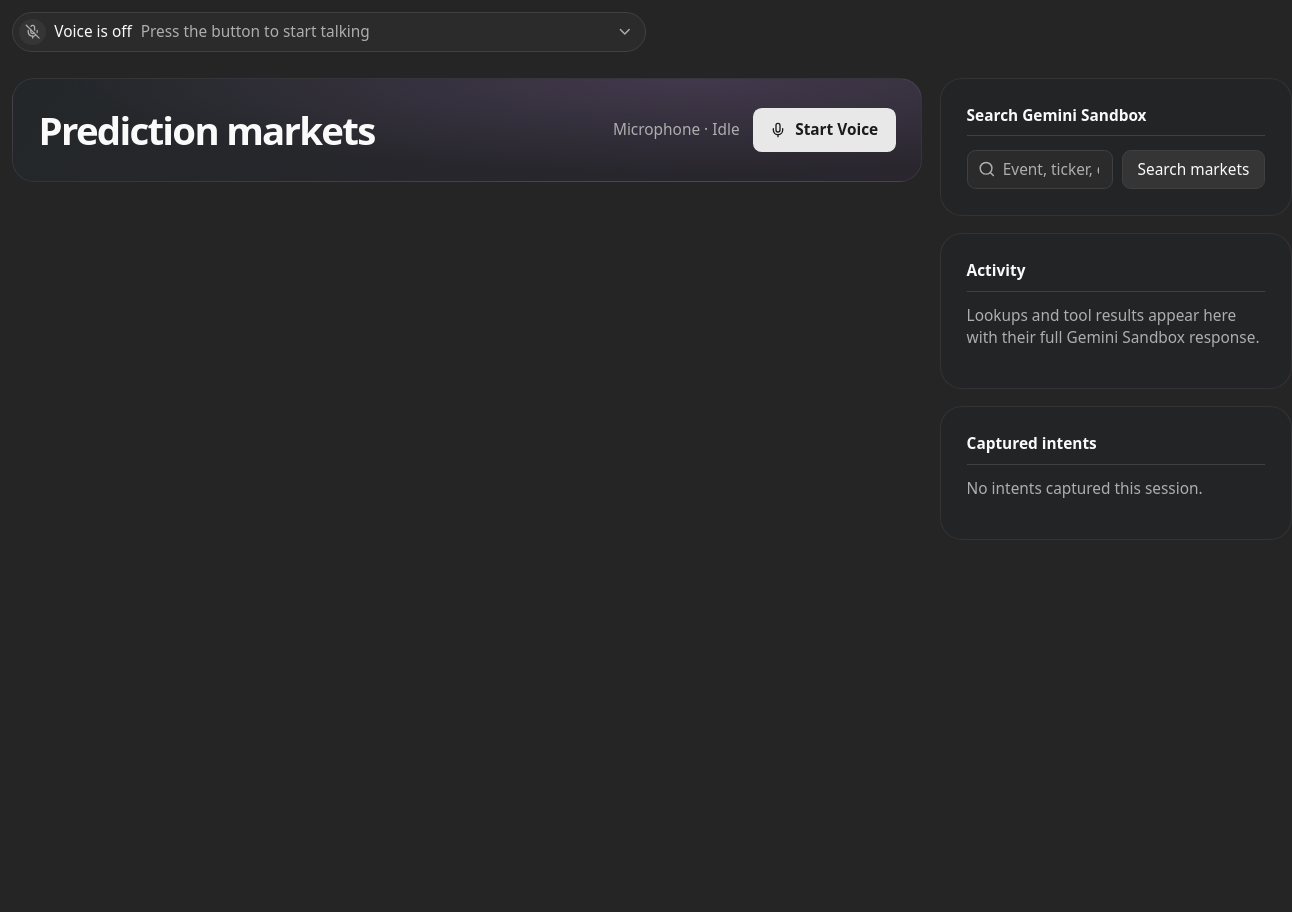
Test: requests one fresh remainder proposal after spoken approval (retry by voice false)
The image size is (1292, 912).
Click the button "Start Voice" at (824, 130), box [753,108,896,152]
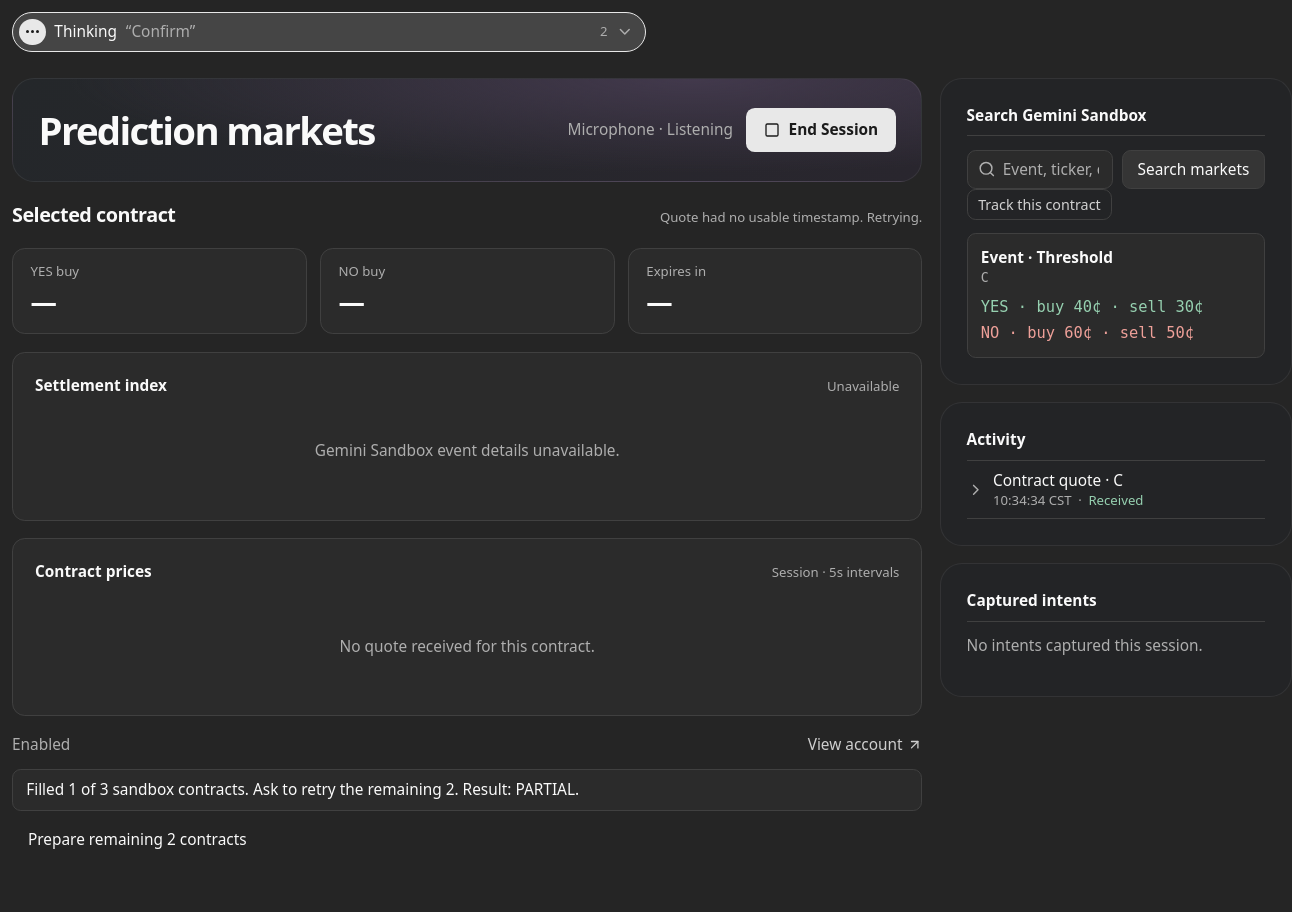
Expected: the text "Microphone · Listening" is shown, [568,119,733,141]
Click the button "Prepare remaining 2 contracts" at (137, 839), box [12,819,263,859]
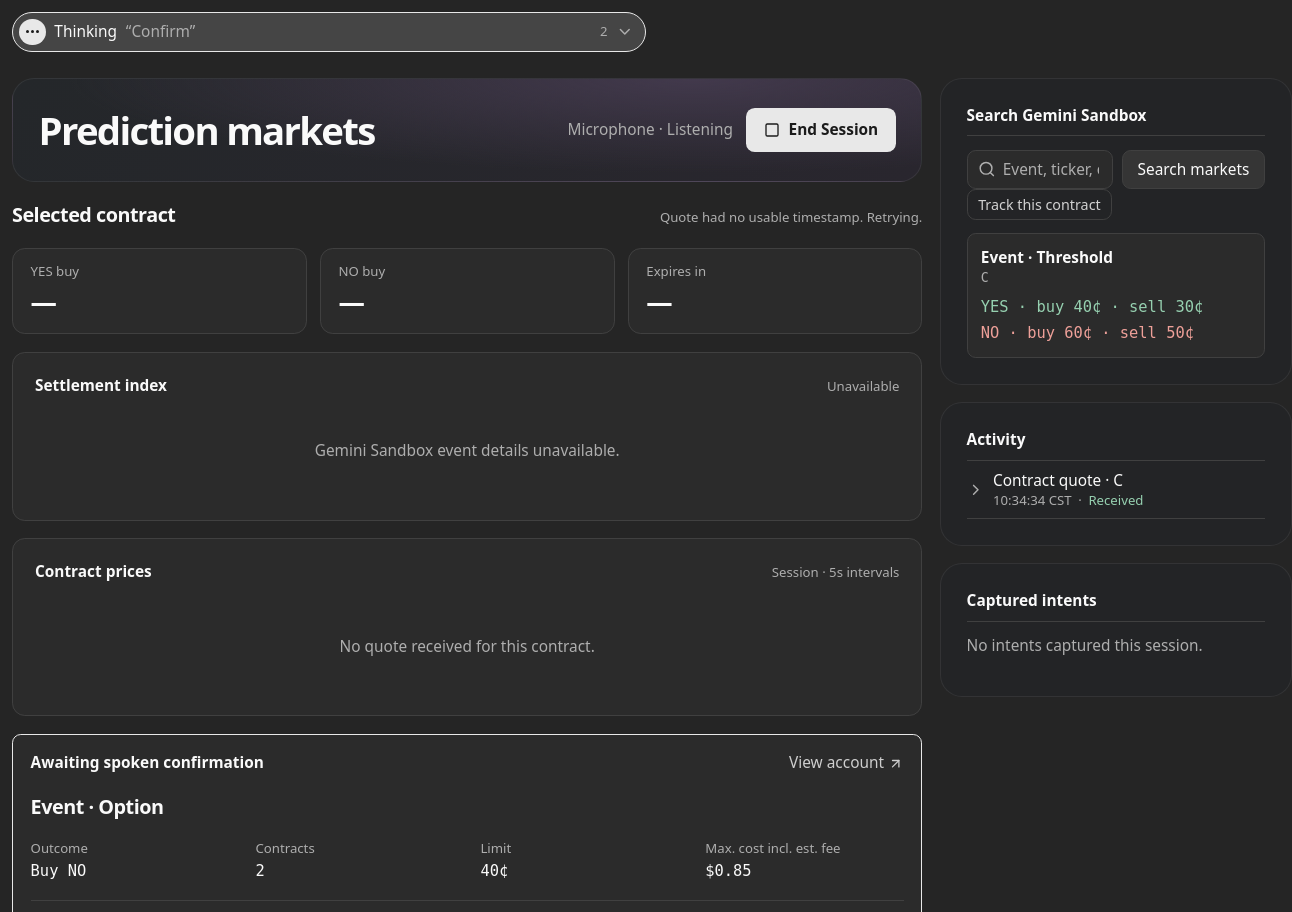
Expected: the text "Awaiting spoken confirmation" is shown, [31,752,264,774]
